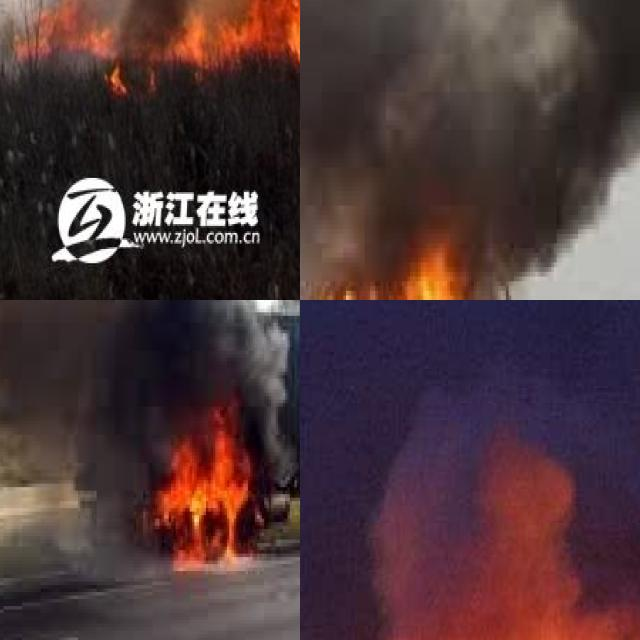fire: (129, 375, 271, 575), (16, 0, 300, 55), (300, 243, 490, 300), (104, 59, 126, 94)
smoke: (300, 0, 640, 295), (300, 409, 640, 640), (0, 300, 294, 515)
